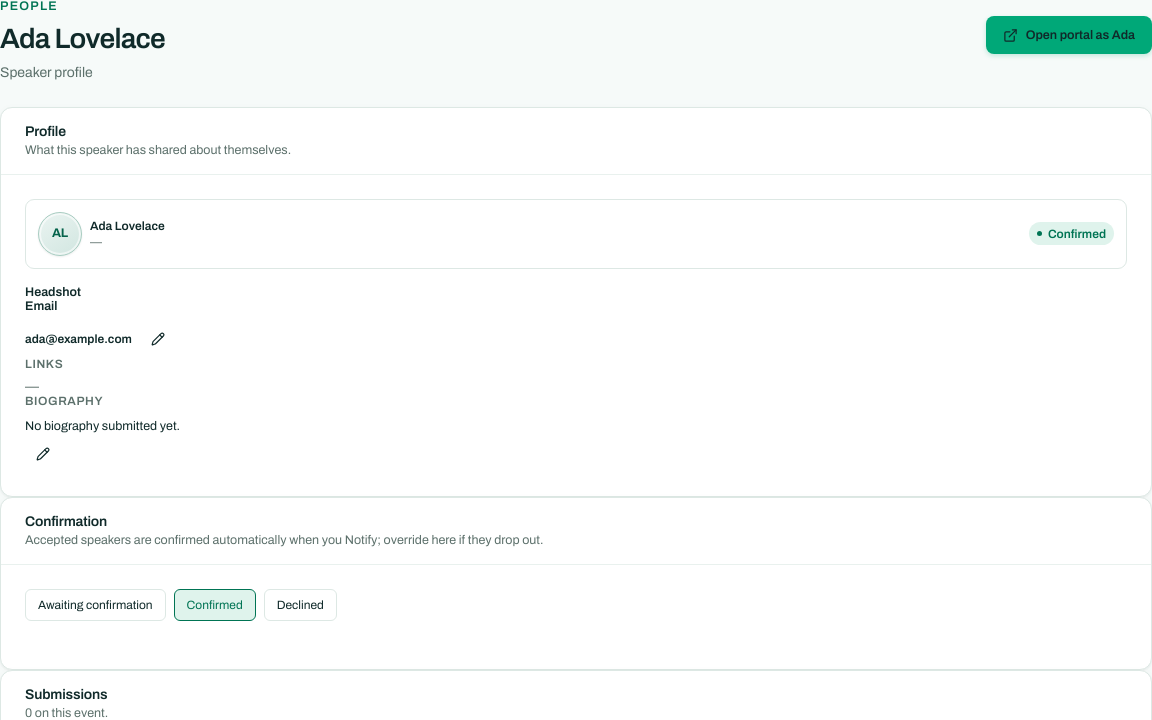
Test: declining a confirmed speaker › cancels back to the unchanged status
The image size is (1152, 720).
What coordinates should you click on to do the following:
click the button "Declined"
I would click on:
 (300, 605)
Its box is x1=264 y1=589 x2=337 y2=621.
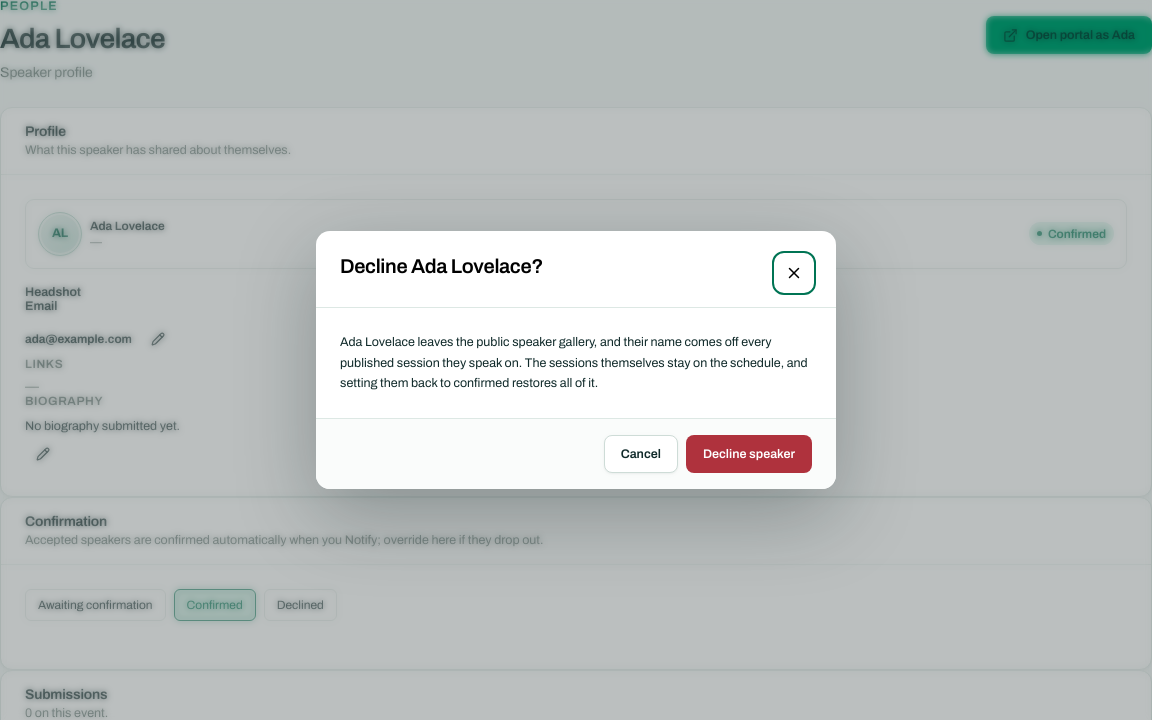
What coordinates should you click on to do the following:
click the button "Cancel"
I would click on:
 (641, 454)
Its box is x1=604 y1=435 x2=678 y2=473.
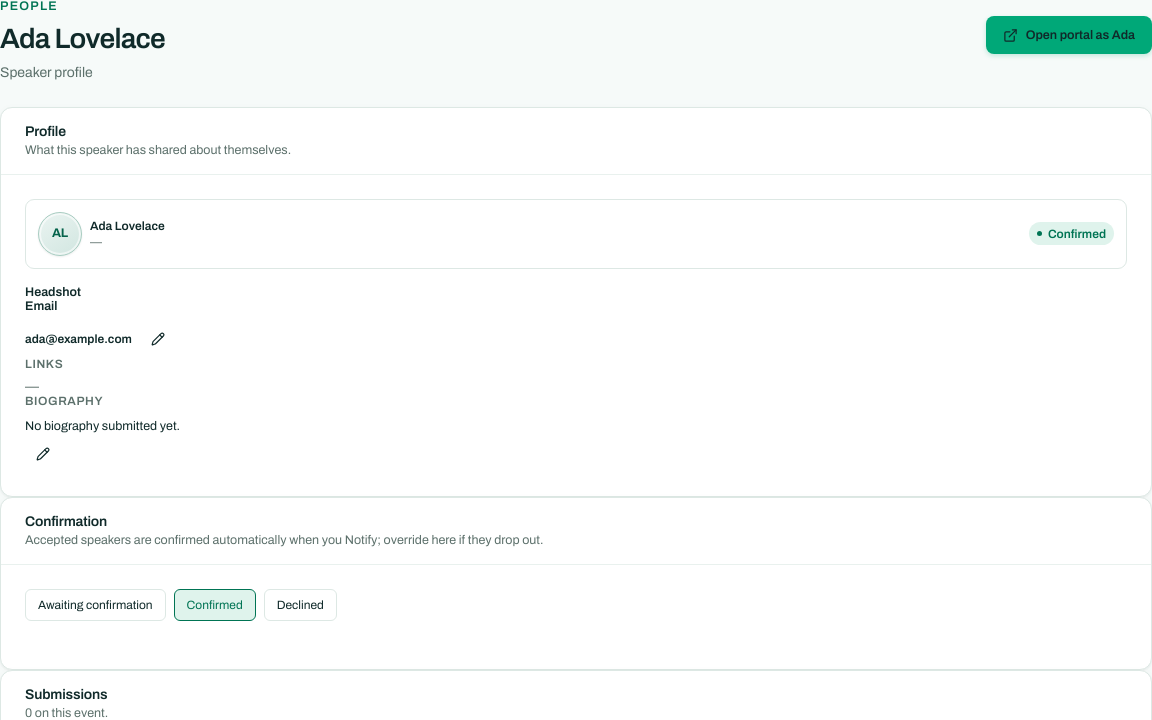
Expected: the text "Decline Ada Lovelace?" is gone
